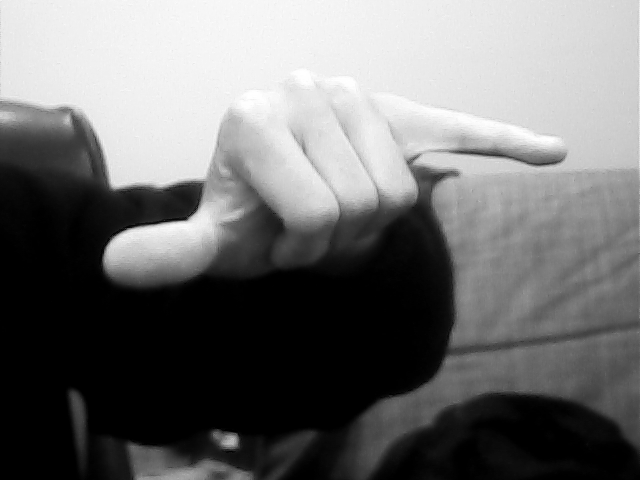aloha: (97, 63, 572, 294)
